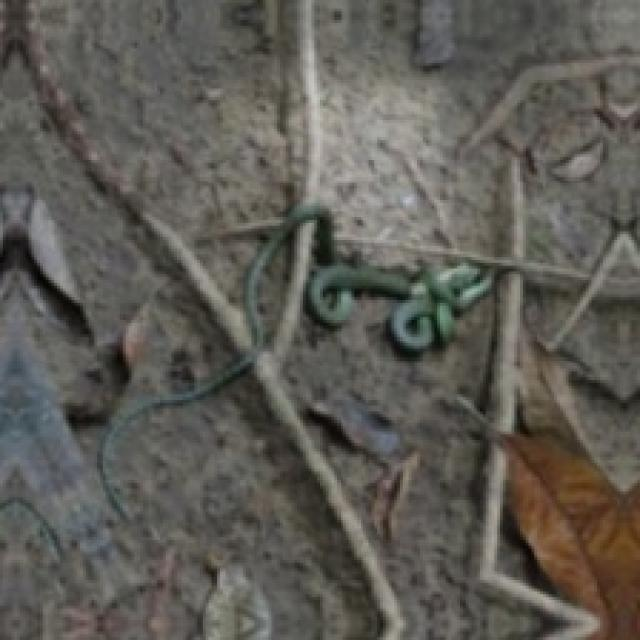paradise tree snake: (100, 206, 491, 511)
